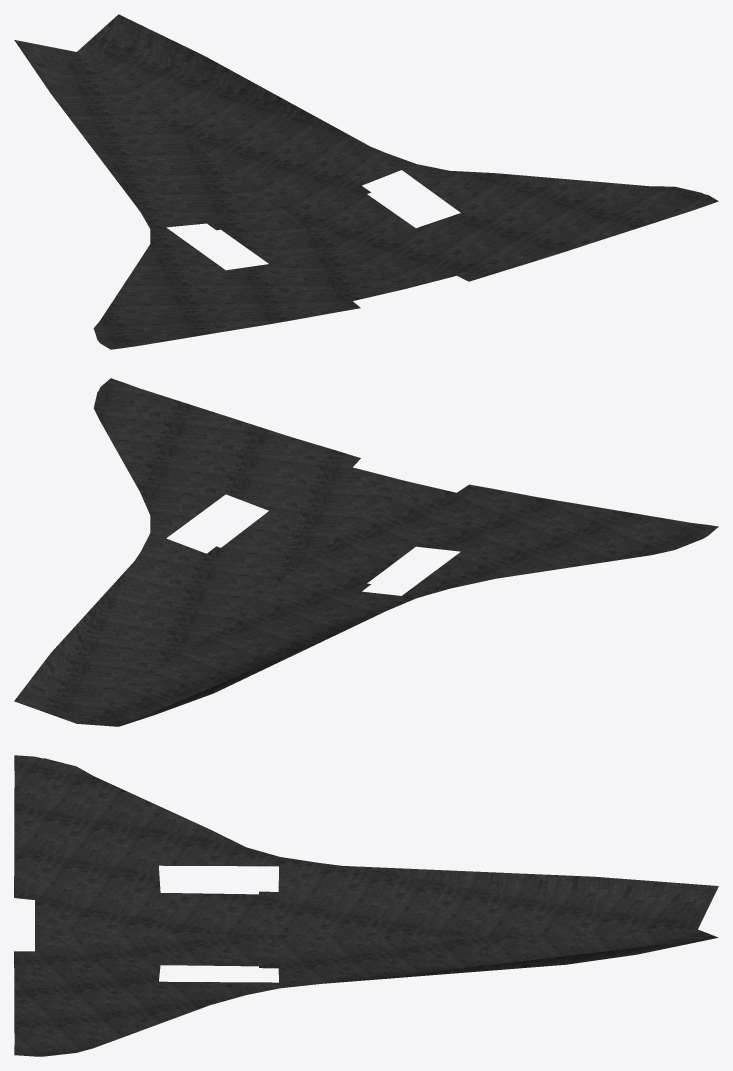
The model's file is wingLower.fbx.
3 views of the same model, one above another, from view 1: azimuth 30°, elevation 25°; view 2: azimuth 150°, elevation 25°; view 3: azimuth 270°, elevation 25° (orthographic).
Visible parts, largest first — view 1: wingBottom; view 2: wingBottom; view 3: wingBottom.
Boxes of the visible parts, bbox=[...] form: wingBottom: bbox=[14, 14, 718, 349]; wingBottom: bbox=[14, 378, 718, 726]; wingBottom: bbox=[14, 755, 718, 1056].
Size of the model in its own units: 90.67 by 4.57 by 90.06.
